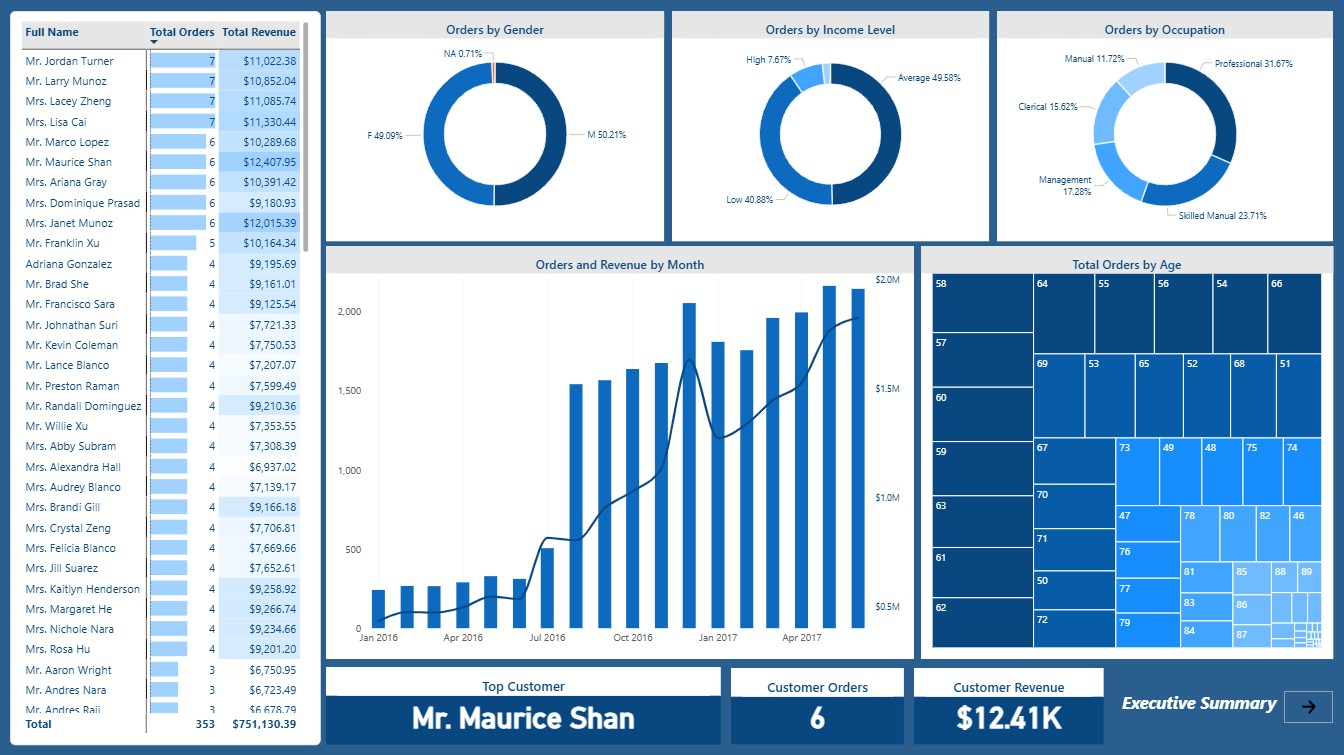

The page's visual inventory and layout, read from the dashboard file:
{"tool":"powerbi","page":{"name":"Customer Detail","canvas":[1920,1080],"ordinal":3},"visuals":[{"type":"pivotTable","title":"Top 100 Customers by Orders and Revenue","fields":{"Rows":["Customers_lookup.Full Name"],"Values":["Sales Data.Total Orders","Sales Data.Total Revenue"]},"box":[11.4,15.7,450,1048.6],"z":0},{"type":"card","title":"Top Customer","fields":{"Values":["Min(Customers_lookup.Full Name)"]},"box":[465.7,953.3,564.3,111.4],"z":1000},{"type":"card","title":"Customer Orders","fields":{"Values":["Sales Data.Total Orders"]},"box":[1044.3,954.8,247.1,108.6],"z":2000},{"type":"donutChart","title":"Orders by Gender","fields":{"Category":["Customers_lookup.Gender"],"Y":["Sales Data.Total Orders"]},"box":[465.7,15.7,482.9,328.6],"z":3000},{"type":"card","title":"Customer Revenue","fields":{"Values":["Sales Data.Total Revenue"]},"box":[1305.7,954.8,271.4,108.6],"z":4000},{"type":"donutChart","title":"Orders by Income Level","fields":{"Category":["Customers_lookup.IncomeLevel"],"Y":["Sales Data.Total Orders"]},"box":[960,15.7,452.9,328.6],"z":5000},{"type":"donutChart","title":"Orders by Occupation","fields":{"Category":["Customers_lookup.Occupation"],"Y":["Sales Data.Total Orders"]},"box":[1424.3,15.7,480,328.6],"z":6000},{"type":"lineClusteredColumnComboChart","title":"Orders and Revenue by Month ","fields":{"Category":["Calendar_Lookup.Start of Month"],"Y":["Sales Data.Total Orders"],"Y2":["Sales Data.Total Revenue"]},"box":[464.3,348.6,891.4,601.4],"z":7000},{"type":"treemap","fields":{"Group":["Customers_lookup.Age"],"Values":["Sales Data.Total Orders"]},"box":[1357.1,348.6,547.1,601.4],"z":8000},{"type":"actionButton","box":[1834.3,987.1,70,45.7],"z":9000},{"type":"textbox","box":[1602.9,987.1,231.4,52.9],"z":10000}]}

Visuals, with their boxes in screenshot pixels (x1, y1, x2, y2), scaled from the page's 1920x1080 canvas onto the 1344x755 screenshot:
"Top 100 Customers by Orders and Revenue" pivotTable: <bbox>8, 11, 323, 744</bbox>
"Top Customer" card: <bbox>326, 666, 721, 744</bbox>
"Customer Orders" card: <bbox>731, 667, 904, 743</bbox>
"Orders by Gender" donutChart: <bbox>326, 11, 664, 241</bbox>
"Customer Revenue" card: <bbox>914, 667, 1104, 743</bbox>
"Orders by Income Level" donutChart: <bbox>672, 11, 989, 241</bbox>
"Orders by Occupation" donutChart: <bbox>997, 11, 1333, 241</bbox>
"Orders and Revenue by Month " lineClusteredColumnComboChart: <bbox>325, 244, 949, 664</bbox>
treemap - Customers_lookup.Age x Sales Data.Total Orders: <bbox>950, 244, 1333, 664</bbox>
actionButton: <bbox>1284, 690, 1333, 722</bbox>
textbox: <bbox>1122, 690, 1284, 727</bbox>
